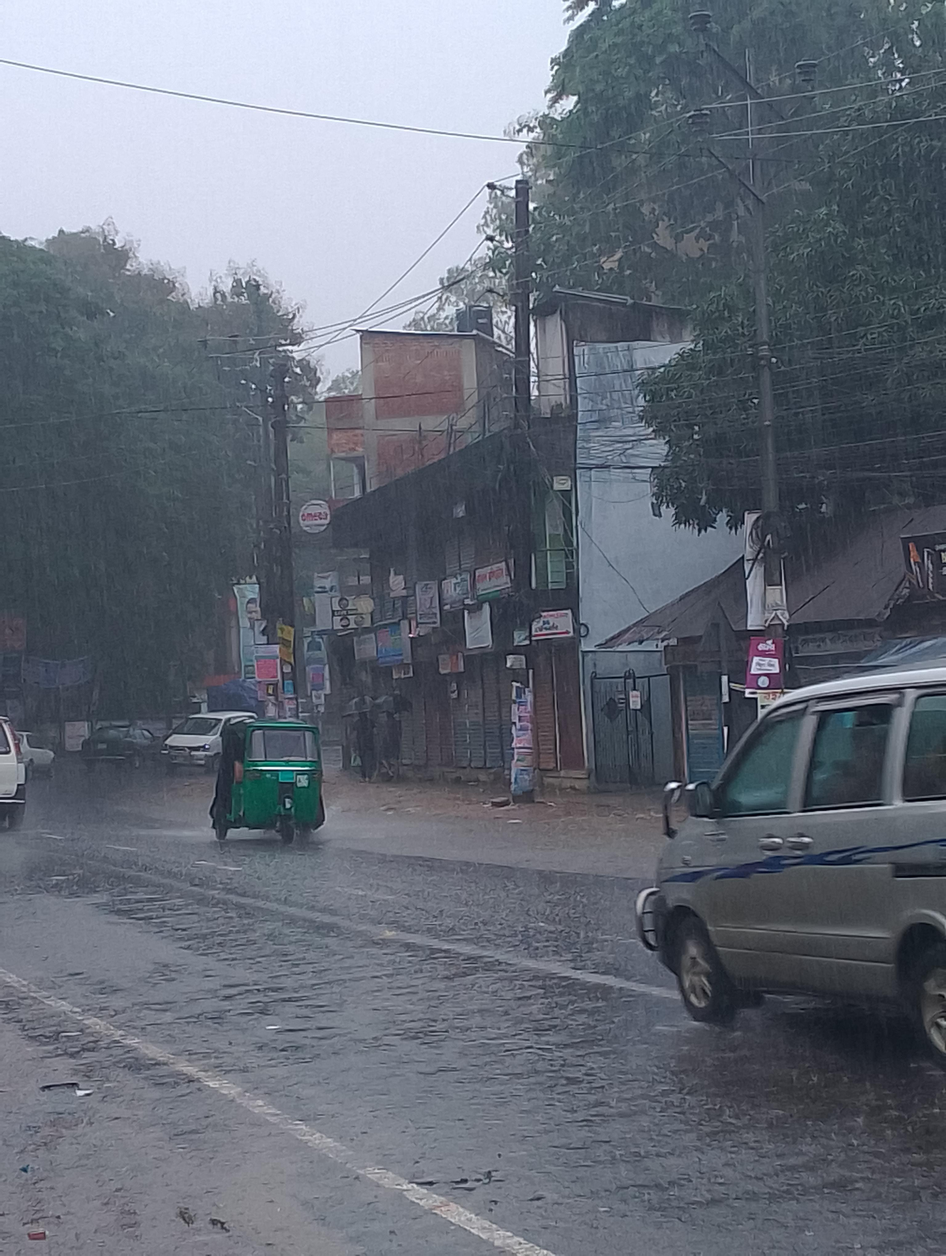Car: (633, 653, 946, 1076), (79, 723, 158, 771)
